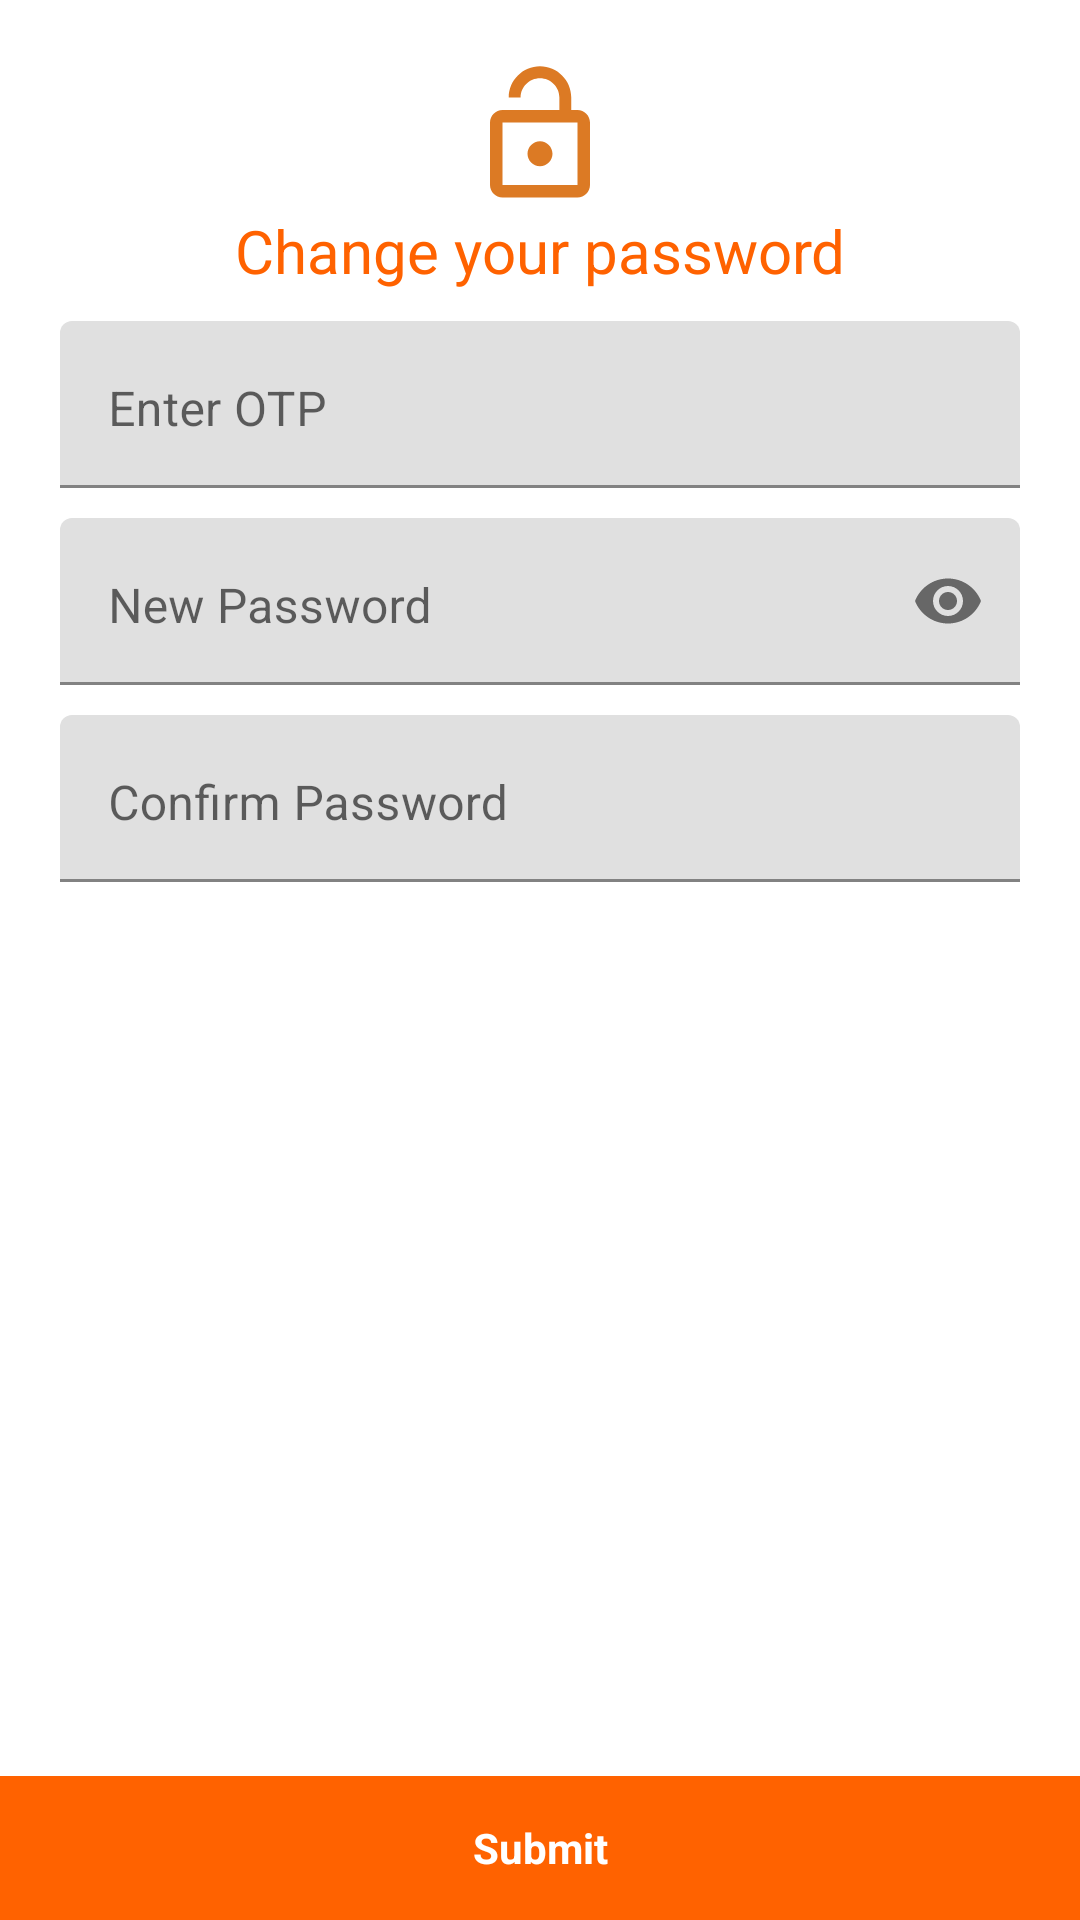

Icon bounding boxes for this 1080 x 1920 phone screenshot, format (x1, y1, x2, y2):
lock open: (490, 66, 590, 198)
